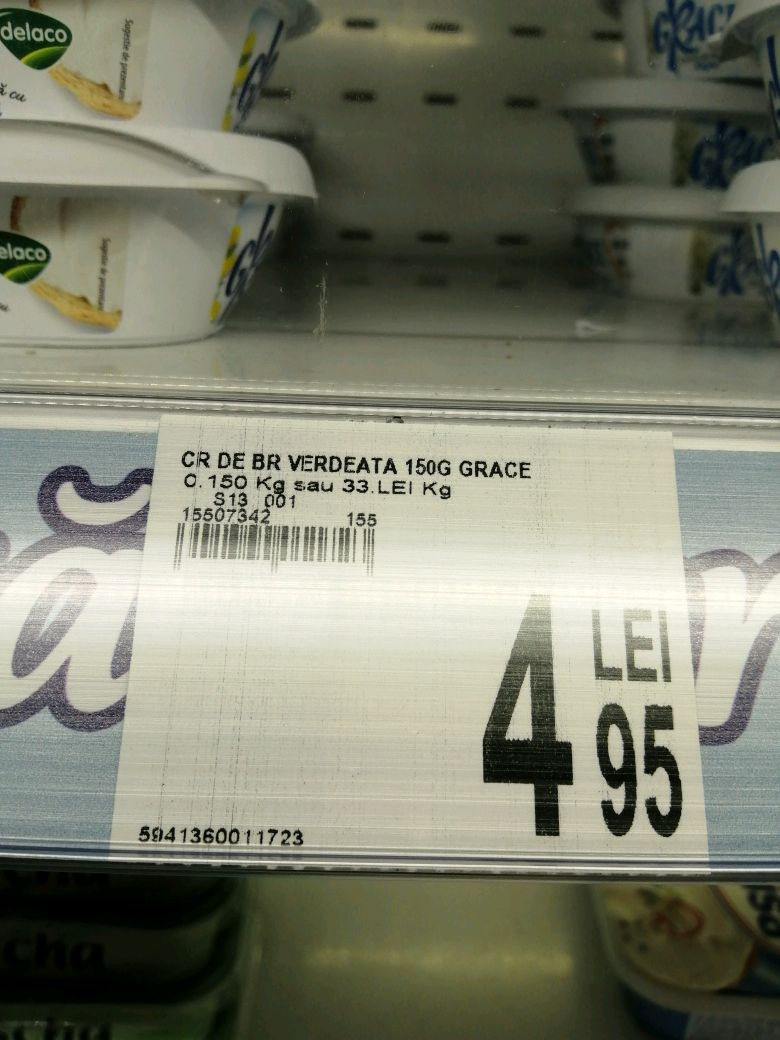price_bani: (588, 699, 690, 839)
price_lei: (476, 586, 578, 843)
price_tag: (104, 406, 728, 868)
product_id: (128, 818, 310, 854)
product_name: (168, 441, 555, 480)
